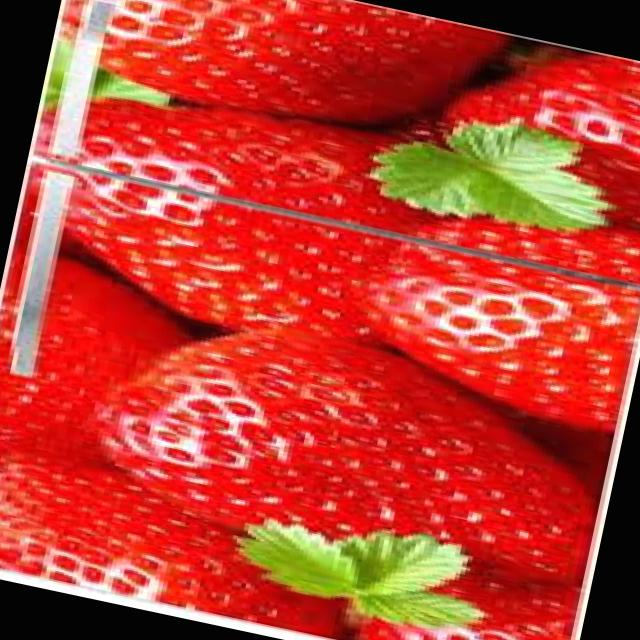strawberry: (64, 288, 630, 618)
